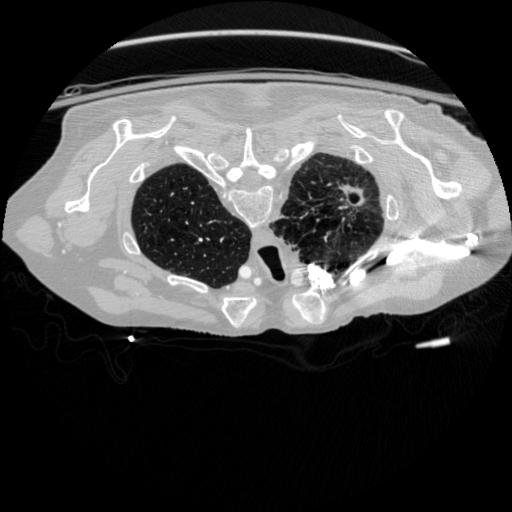nodule: (340, 187, 368, 215)
